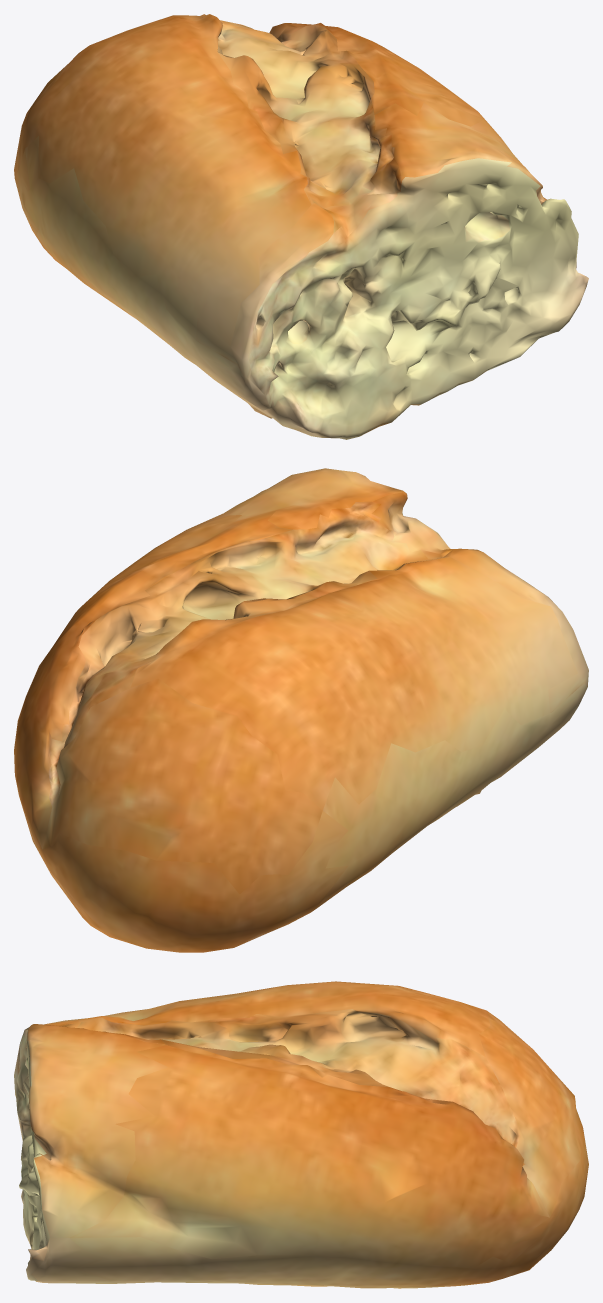
The model's file is st_bread_1.gltf.
3 renders of one model, top to bottom at view 1: azimuth 30°, elevation 25°; view 2: azimuth 150°, elevation 25°; view 3: azimuth 270°, elevation 25°, orthographic. The views are drawn at different scales.
Visible parts, largest first — view 1: Half Bread; view 2: Half Bread; view 3: Half Bread.
Part boxes in pixels (<box>): Half Bread: <box>14,14,588,439</box>; Half Bread: <box>14,468,588,952</box>; Half Bread: <box>14,981,588,1288</box>.
Bounding box in the file's own units: 0.1243 × 0.0881 × 0.1795.
Materials: 1 (1 with a texture image).
